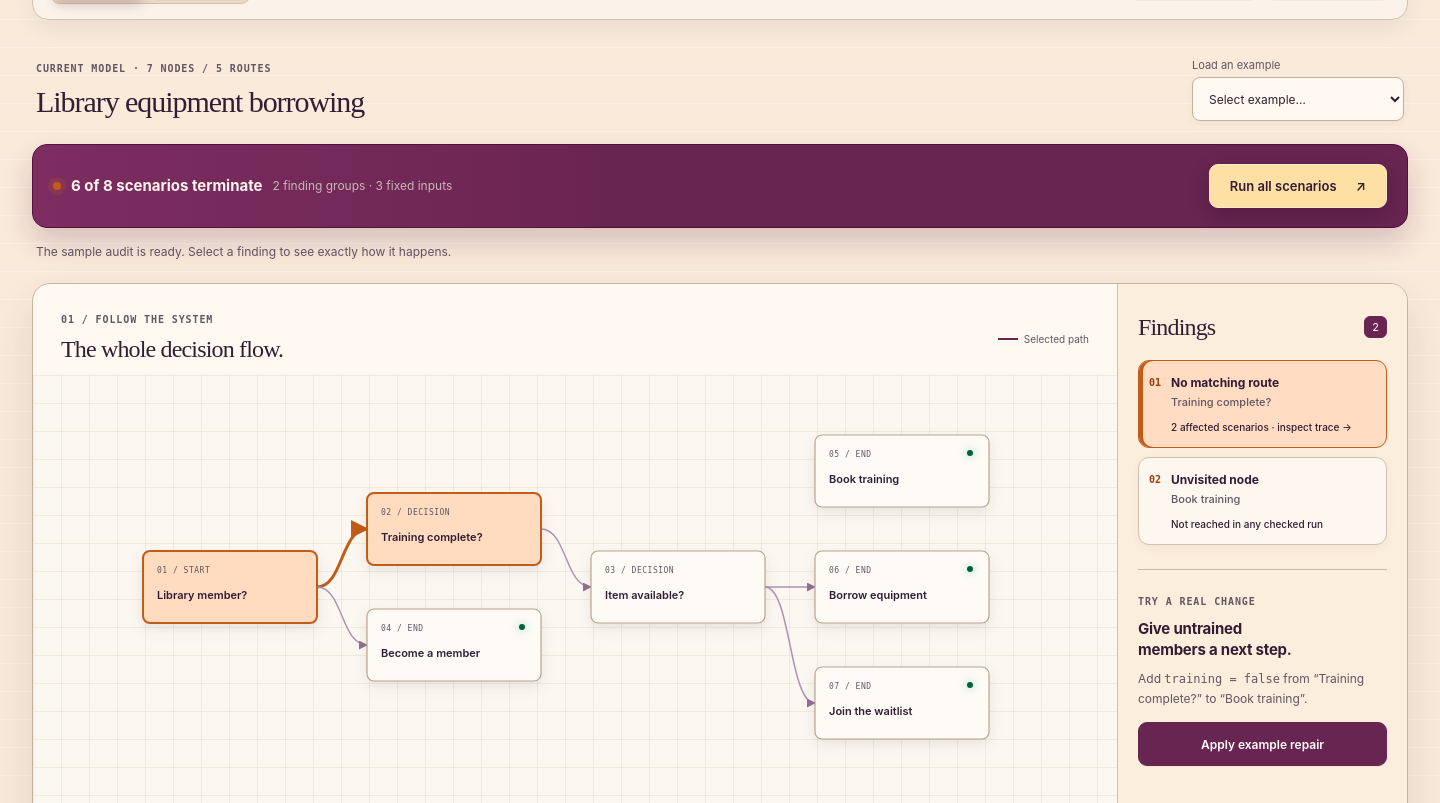
Test case: lets a user inspect a failure, make a model repair, and rerun all scenarios
(page scrolled)
expect the text "6 of 8 scenarios terminate" is shown: met, box [71,176,262,196]
Click the button "No matching route": (1262, 404) [1138,360,1387,448]
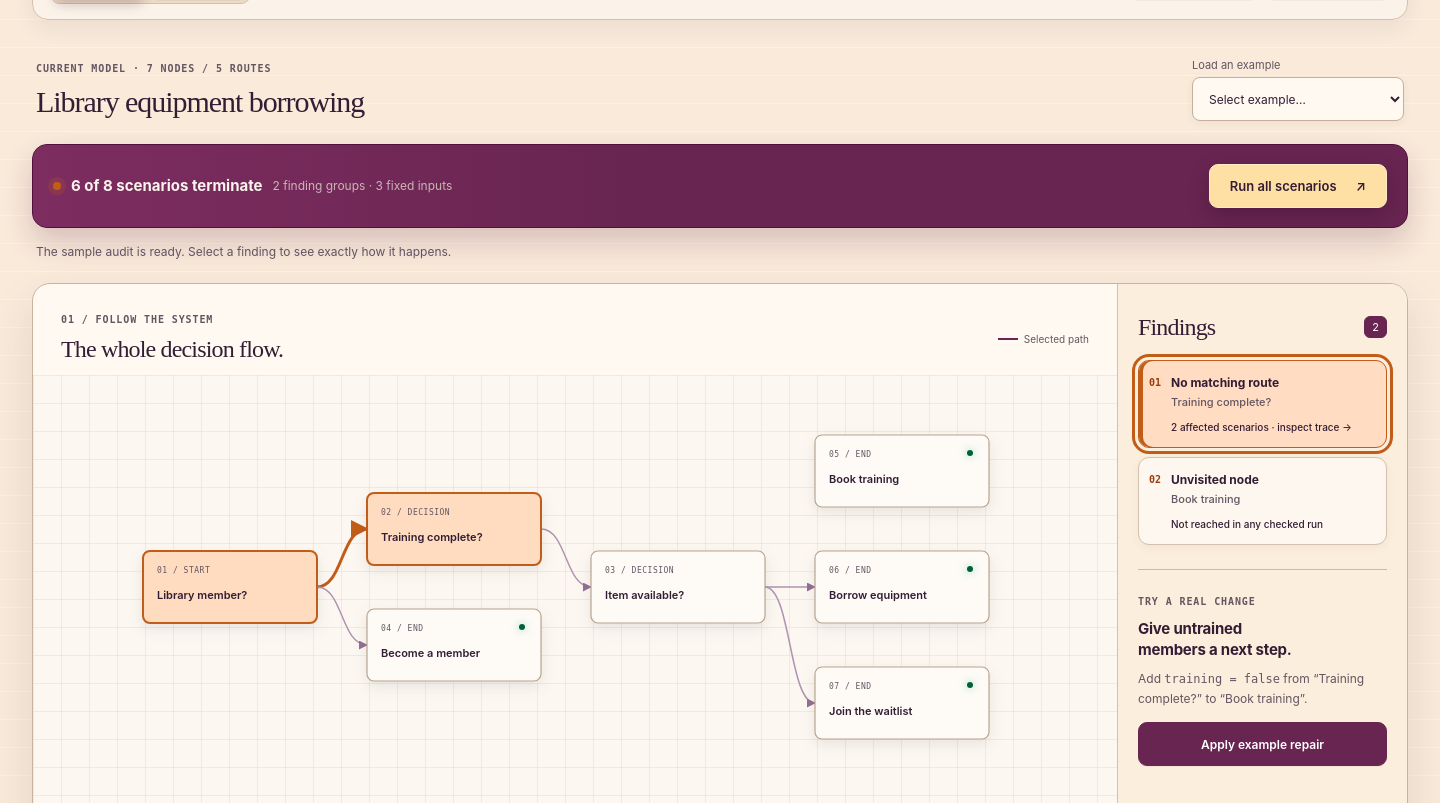
Click the button "Apply example repair": (1262, 744) [1138,722,1387,766]
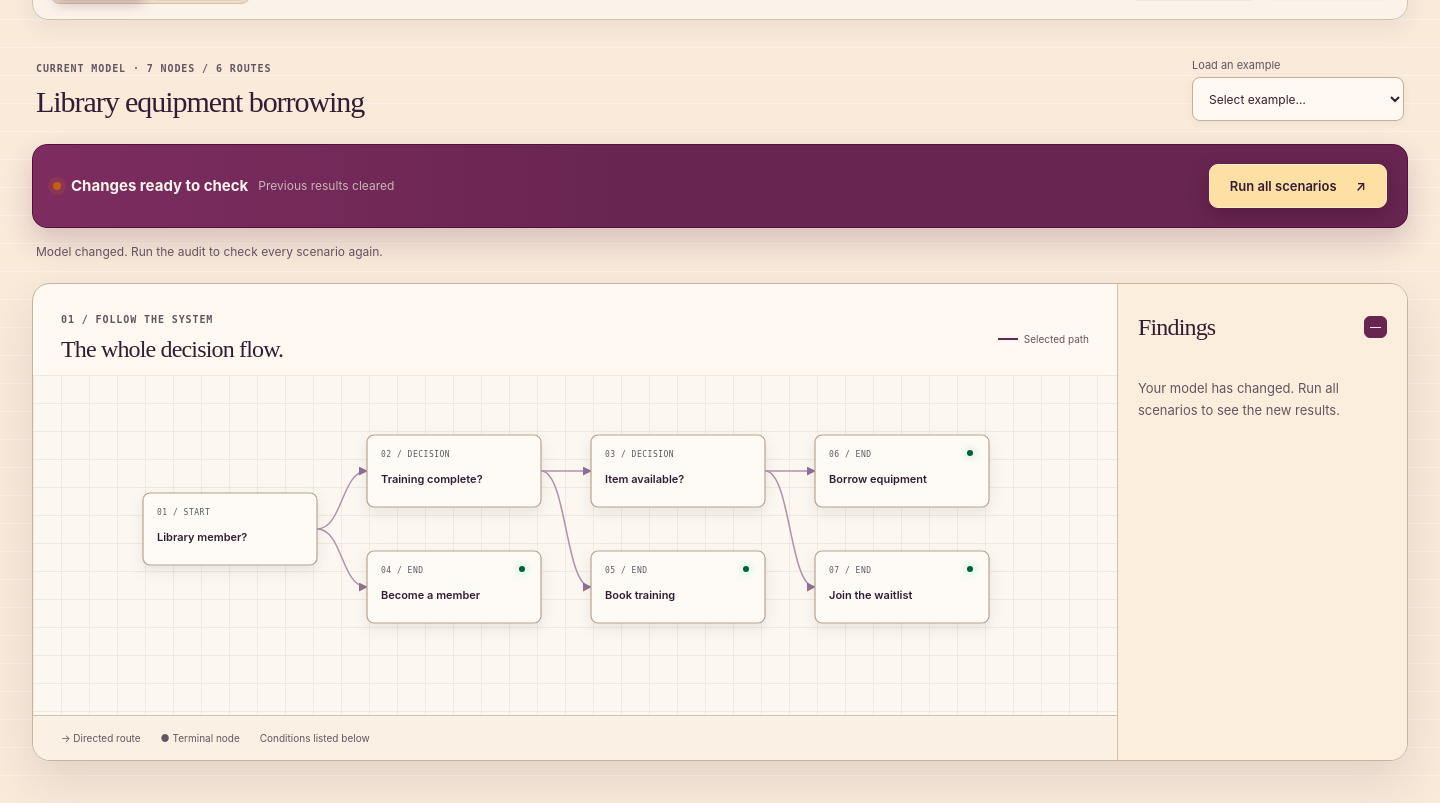
expect the text "Model changed. Run the audit to check every scenario again." is shown: met, box [36,244,383,259]
Click the button "Run all scenarios ↗": (1298, 186) [1209,164,1387,208]
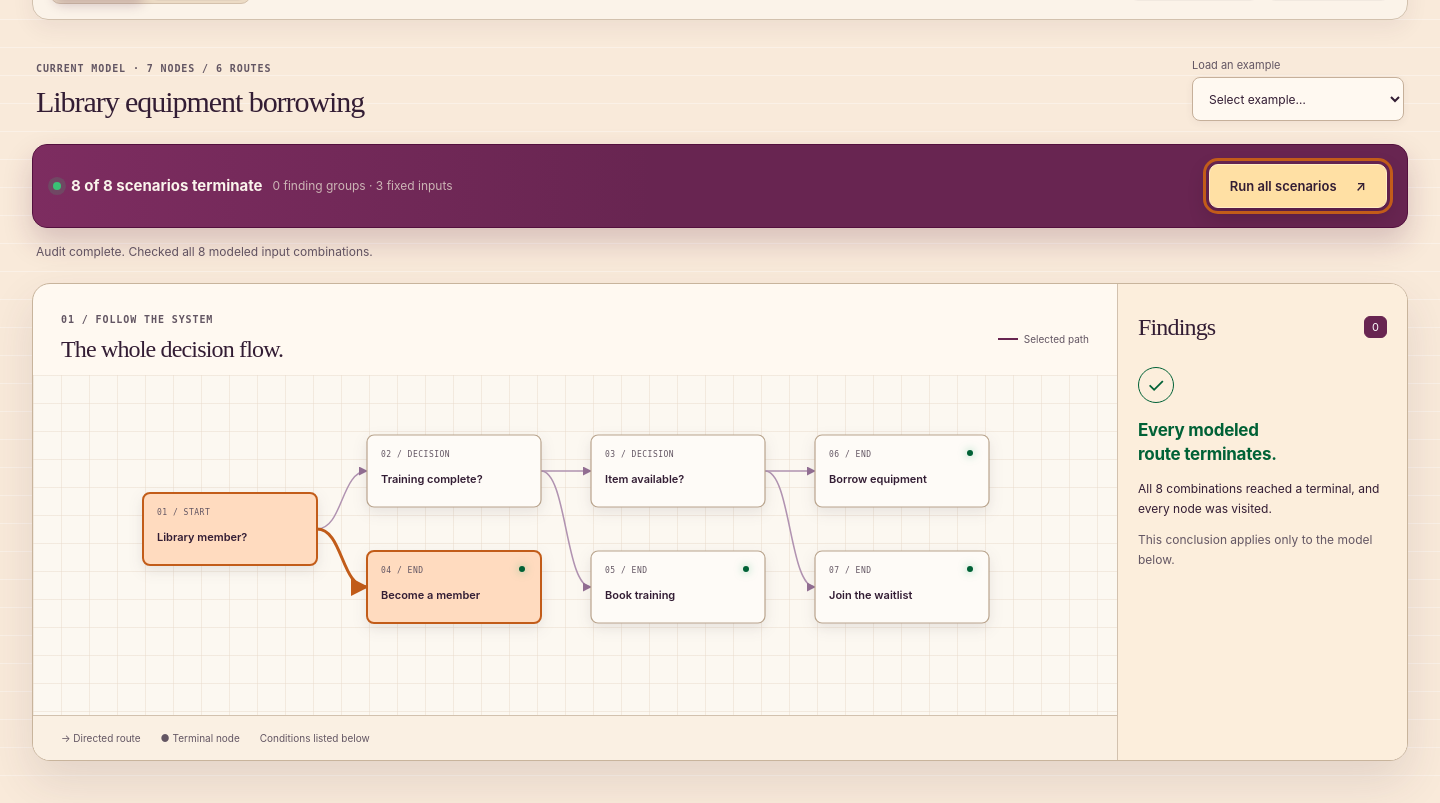
expect the text "8 of 8 scenarios terminate" is shown: met, box [71,176,262,196]
expect the heading "Every modeled route terminates." is shown: met, box [1138,420,1277,464]
